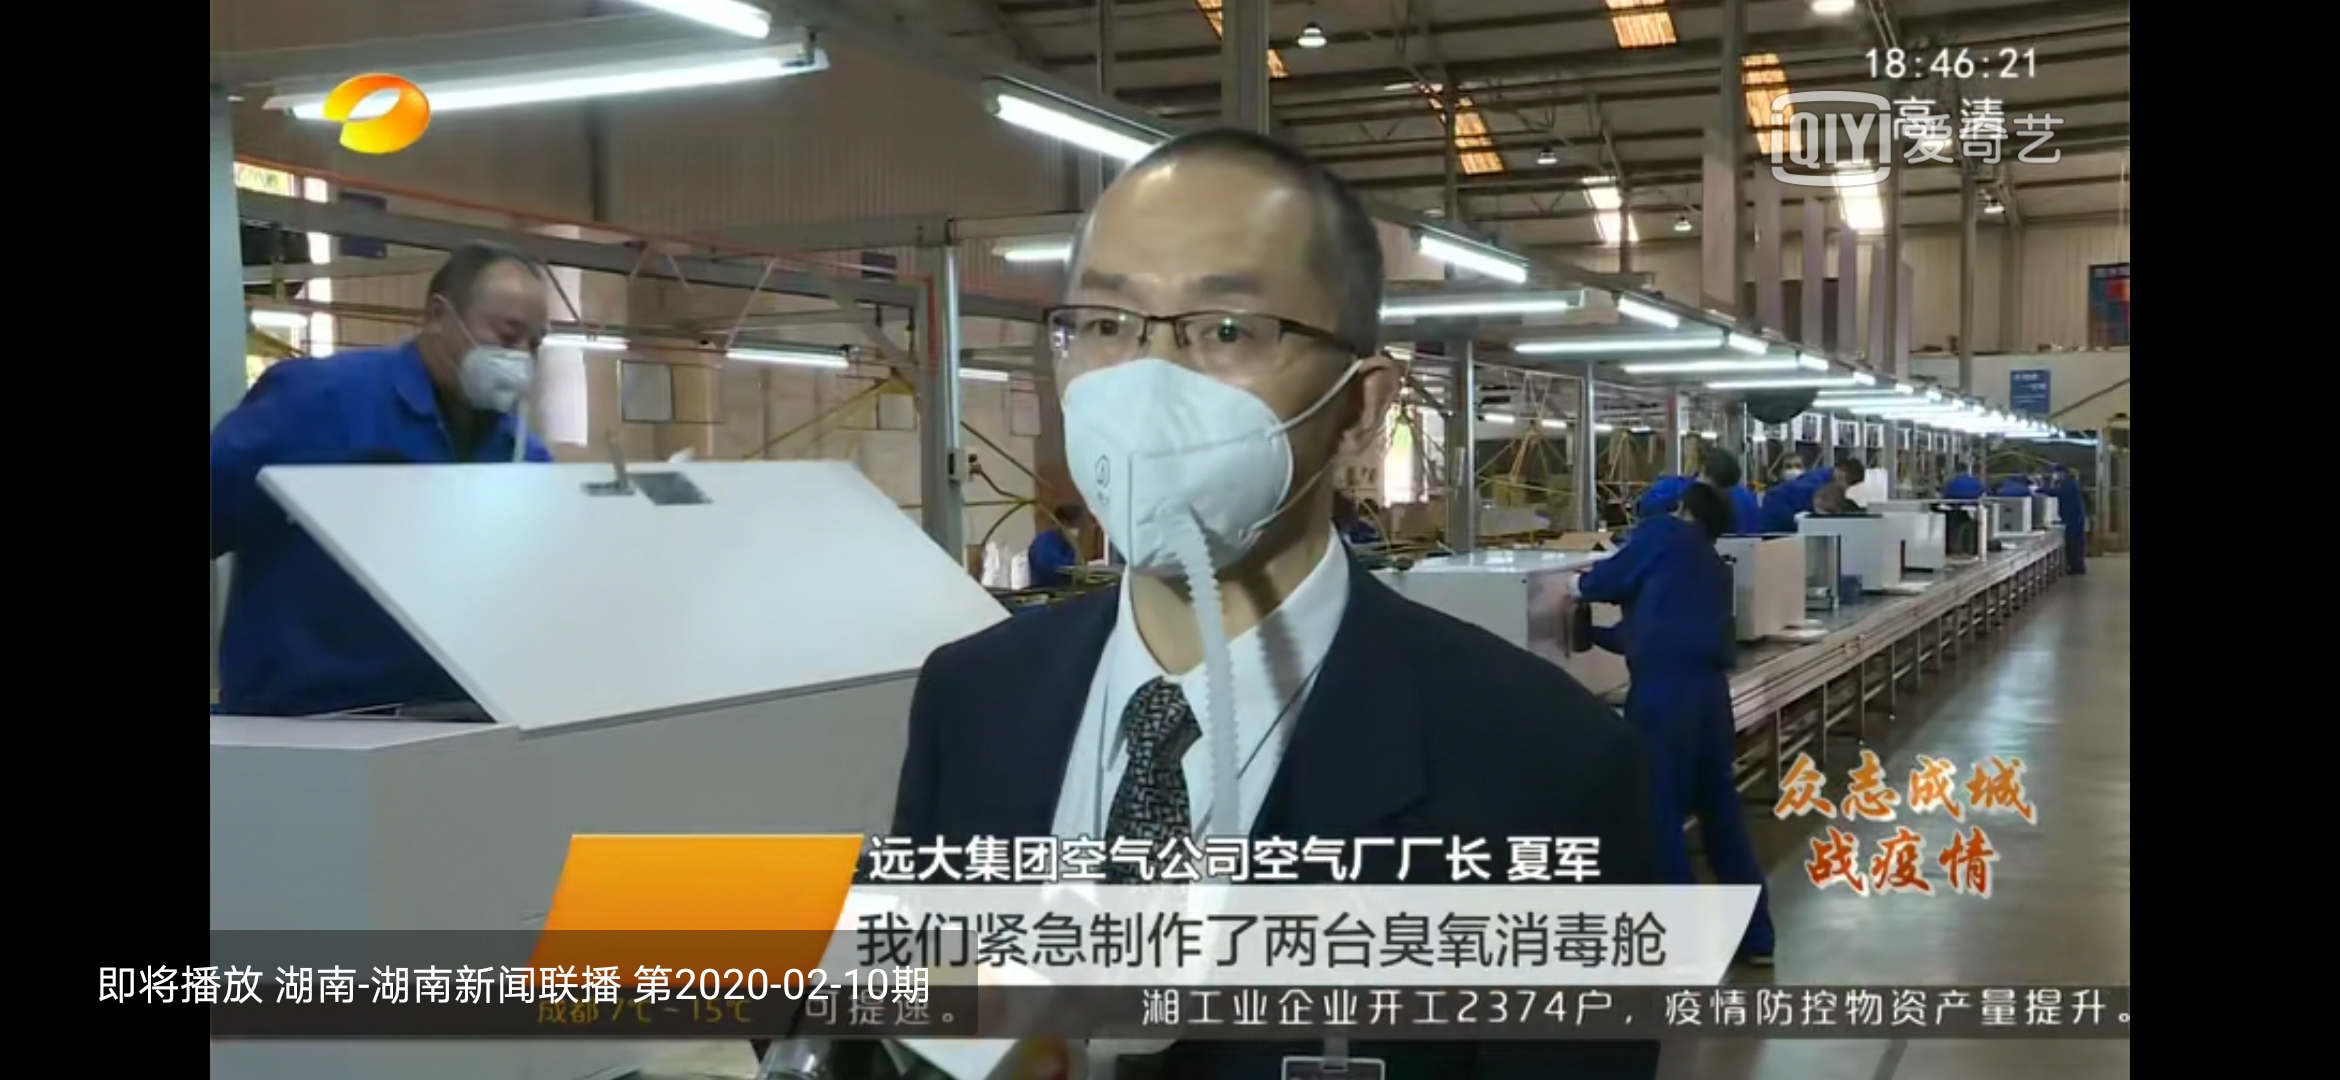correctlyWear: (1057, 269, 1383, 588), (424, 277, 554, 430), (1780, 456, 1803, 480)
